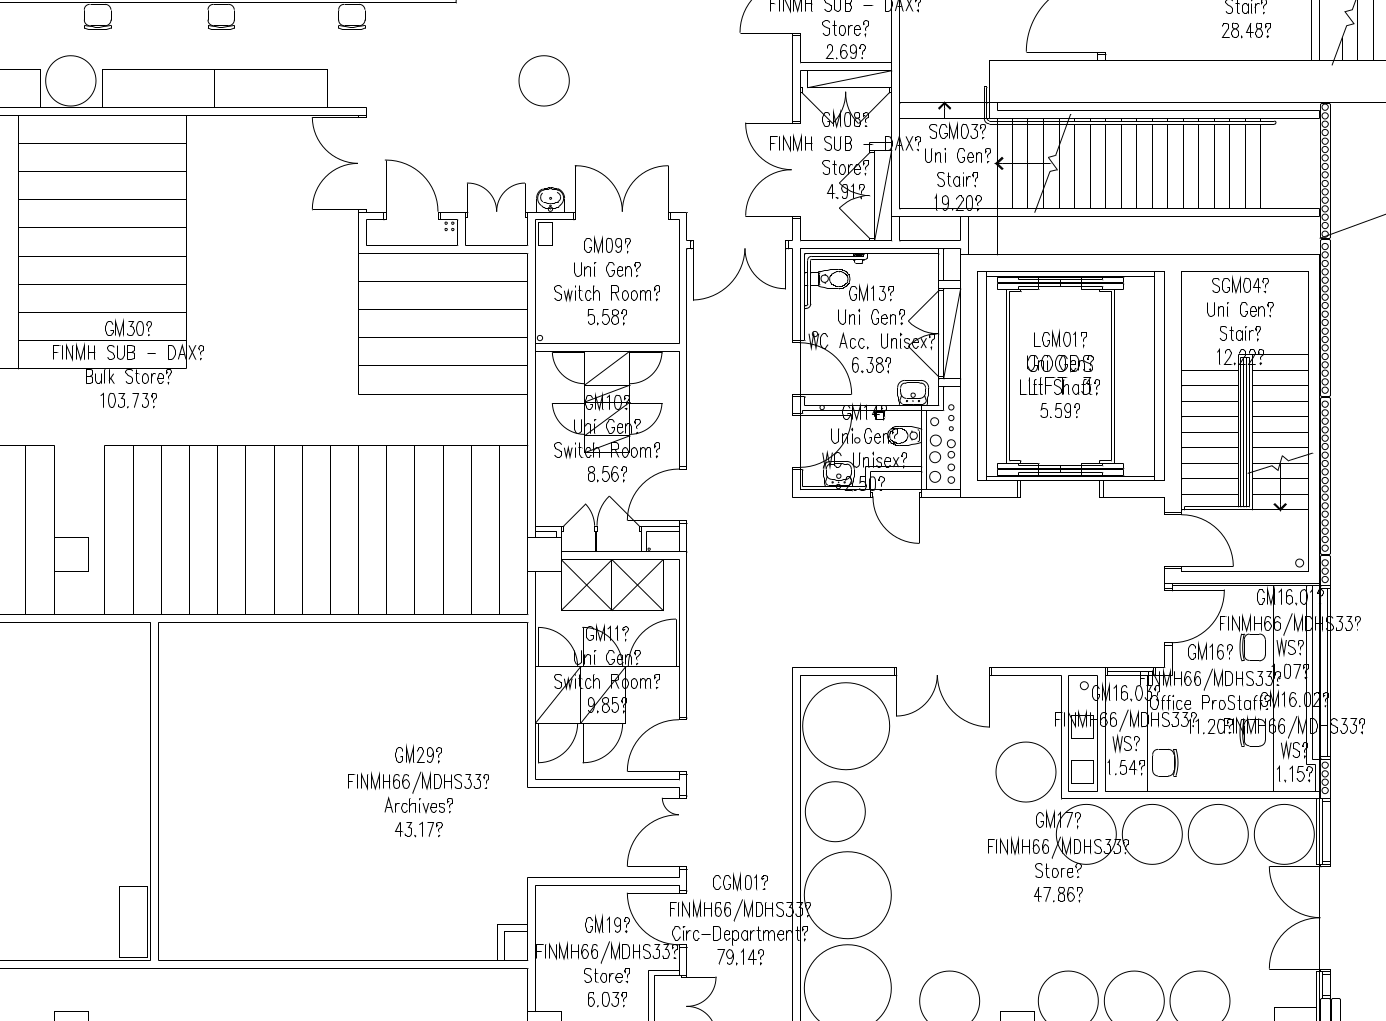door: (380, 151, 443, 223), (1165, 510, 1241, 570), (885, 662, 947, 734), (1163, 589, 1239, 648), (860, 490, 922, 561), (936, 664, 998, 736), (296, 159, 369, 214), (619, 464, 678, 525), (690, 239, 745, 304), (620, 888, 678, 949), (622, 715, 680, 776), (622, 814, 680, 875), (296, 115, 368, 164), (1256, 863, 1318, 918), (1256, 918, 1318, 973), (742, 116, 800, 175), (798, 338, 854, 397), (740, 164, 796, 222), (741, 240, 790, 306), (571, 160, 624, 219), (620, 162, 673, 221), (459, 171, 499, 216), (671, 972, 720, 1008), (487, 175, 527, 219)
